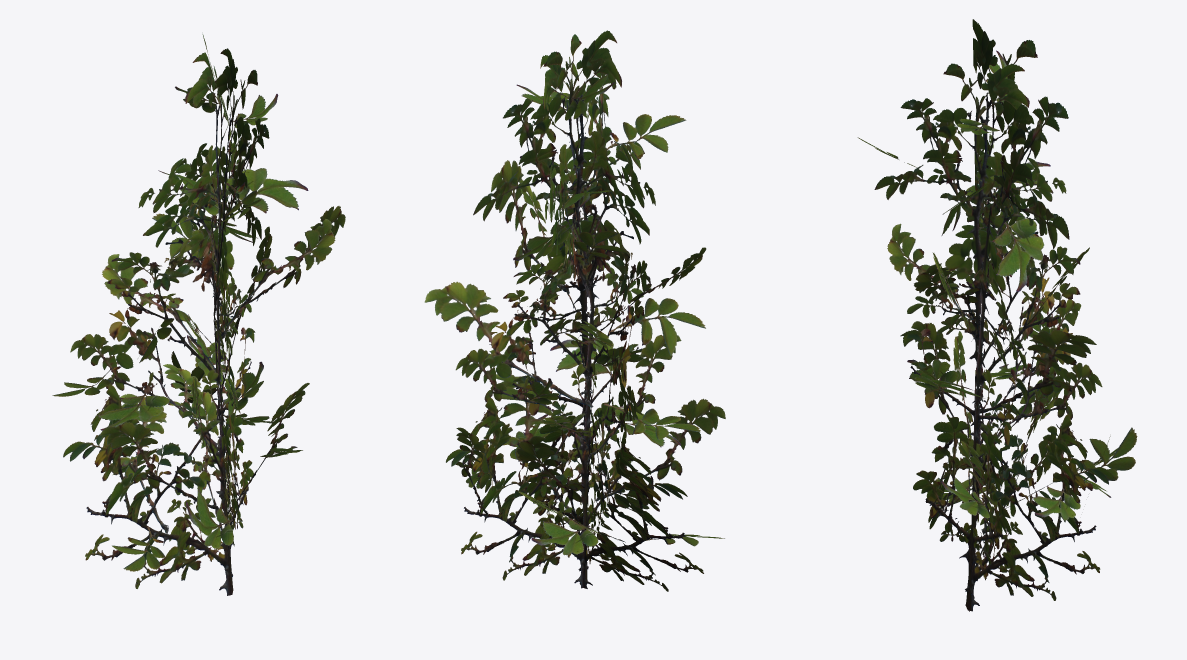
File: Forest_Plant7.fbx
3 renders of one model, left to right at view 1: azimuth 30°, elevation 25°; view 2: azimuth 150°, elevation 25°; view 3: azimuth 270°, elevation 25°, orthographic. The views are drawn at different scales.
Parts seen in each view (by area): view 1: forest_plant7; view 2: forest_plant7; view 3: forest_plant7.
Part boxes in pixels (<box>): forest_plant7: <box>52,34,345,595</box>; forest_plant7: <box>424,30,725,591</box>; forest_plant7: <box>857,19,1137,611</box>.
Size of the model in its own units: 1.54 by 2.32 by 1.24.
